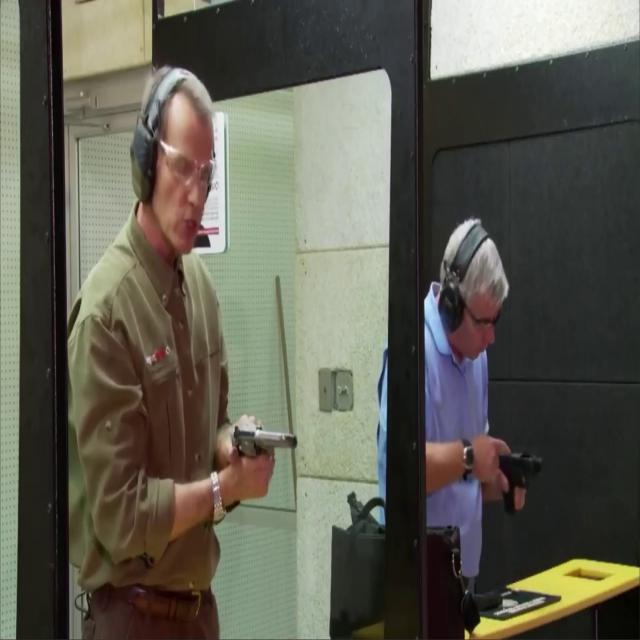Gun: (229, 416, 297, 469), (497, 450, 545, 512)
